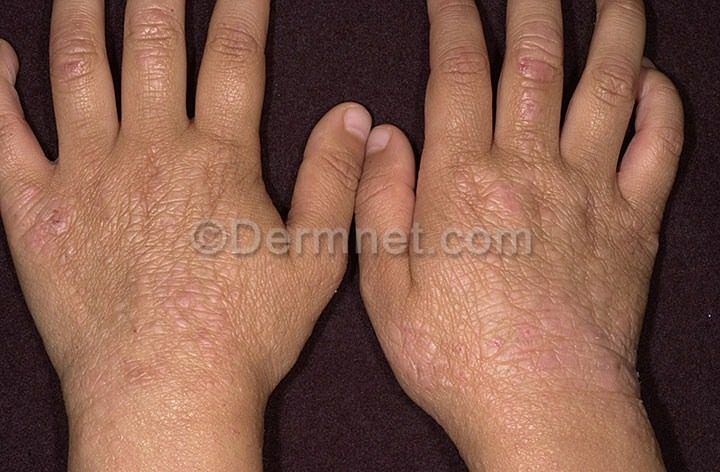Eczema: (378, 25, 693, 453), (8, 6, 259, 451)
